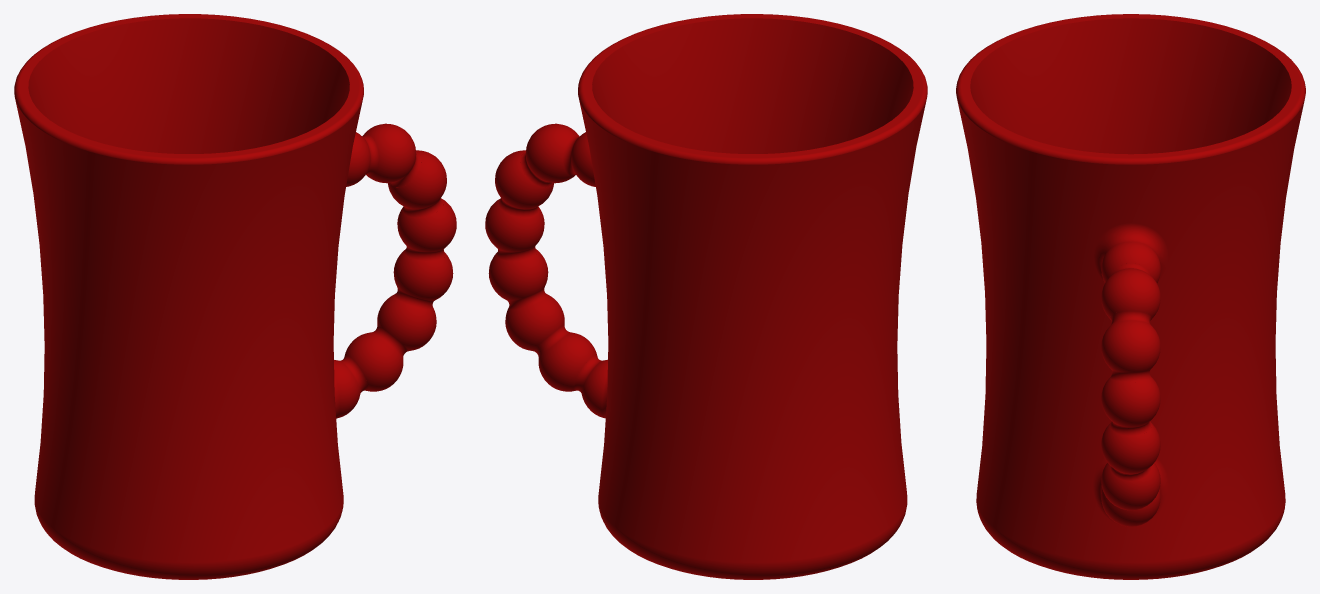
File: CM-MUG036.glb
3 views of the same model, side by side, from view 1: azimuth 30°, elevation 25°; view 2: azimuth 150°, elevation 25°; view 3: azimuth 270°, elevation 25° (orthographic).
Bounding box in the file's own units: 0.0945 × 0.095 × 0.069.
